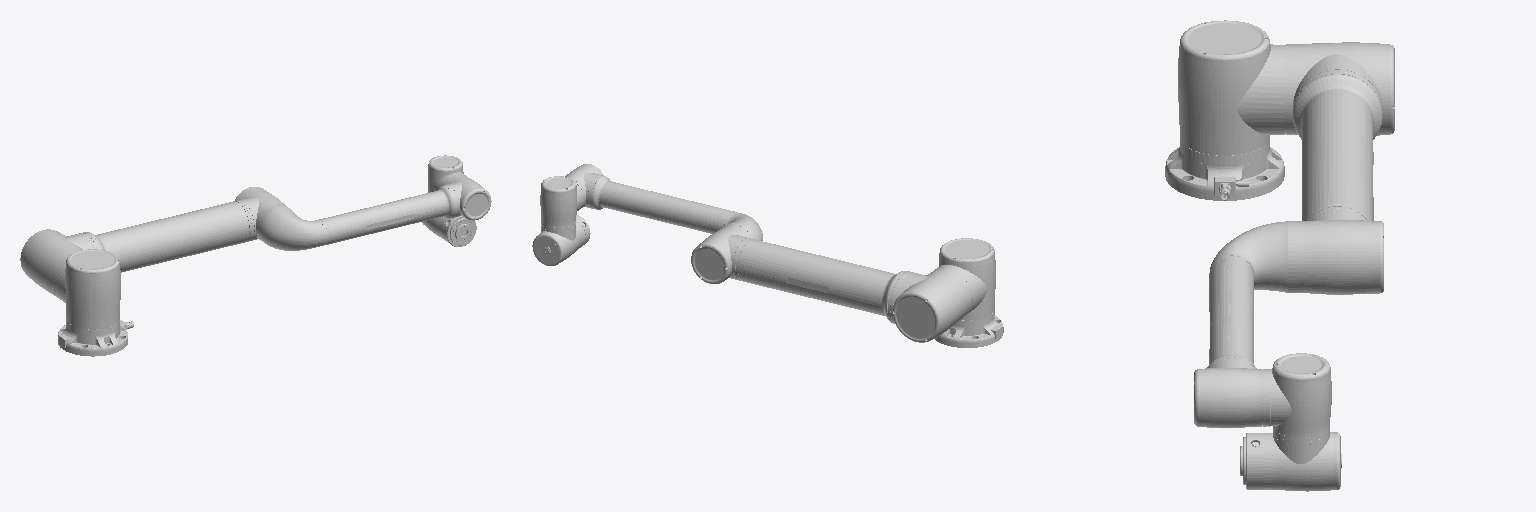
URDF robot description (jaka_pro16):
<?xml version="1.0" encoding="utf-8"?>
<!-- This URDF was automatically created by SolidWorks to URDF Exporter! Originally created by [author] ([email redacted]) 
     Commit Version: 1.6.0-4-g7f85cfe  Build Version: 1.6.7995.38578
     For more information, please see http://wiki.ros.org/sw_urdf_exporter -->
<robot name="jaka_pro16">
    <!-- LINK -->
    <link name="world" />

    <link name="Link_0">
    <inertial>
      <origin
        xyz="0.00066883 2.1035E-05 0.030319"
        rpy="0 0 0" />
      <mass
        value="2.2971" />
      <inertia
        ixx="0.0078544"
        ixy="-5.8534E-06"
        ixz="1.0075E-05"
        iyy="0.0086528"
        iyz="-3.5104E-07"
        izz="0.015073" />
    </inertial>
    <visual>
      <origin
        xyz="0 0 0"
        rpy="0 0 0" />
      <geometry>
        <mesh
          filename="package://jaka_description/meshes/jaka_pro16_meshes/Link_0.STL" />
      </geometry>
      <material name="">
        <color
          rgba="0.84706 0.84706 0.84706 1" />
      </material>
    </visual>
    <collision>
      <origin
        xyz="0 0 0"
        rpy="0 0 0" />
      <geometry>
        <mesh
          filename="package://jaka_description/meshes/jaka_pro16_meshes/Link_0.STL" />
      </geometry>
    </collision>
  </link>
  <link
    name="Link_1">
    <inertial>
      <origin
        xyz="-8.8598E-07 0.0056159 -0.0066183"
        rpy="0 0 0" />
      <mass
        value="7.5342" />
      <inertia
        ixx="0.055309"
        ixy="8.6463E-08"
        ixz="1.4129E-07"
        iyy="0.053715"
        iyz="-0.00019613"
        izz="0.037383" />
    </inertial>
    <visual>
      <origin
        xyz="0 0 0"
        rpy="0 0 0" />
      <geometry>
        <mesh
          filename="package://jaka_description/meshes/jaka_pro16_meshes/Link_1.STL" />
      </geometry>
      <material
        name="">
        <color
          rgba="0.84706 0.84706 0.84706 1" />
      </material>
    </visual>
    <collision>
      <origin
        xyz="0 0 0"
        rpy="0 0 0" />
      <geometry>
        <mesh
          filename="package://jaka_description/meshes/jaka_pro16_meshes/Link_1.STL" />
      </geometry>
    </collision>
  </link>
 <link
    name="Link_2">
    <inertial>
      <origin
        xyz="0.34322 -1.5035E-07 -0.22974"
        rpy="0 0 0" />
      <mass
        value="22.704" />
      <inertia
        ixx="0.10389"
        ixy="-3.2682E-06"
        ixz="0.010995"
        iyy="2.2488"
        iyz="8.2896E-08"
        izz="2.225" />
    </inertial>
    <visual>
      <origin
        xyz="0 0 0"
        rpy="0 0 0" />
      <geometry>
        <mesh
          filename="package://jaka_description/meshes/jaka_pro16_meshes/Link_2.STL" />
      </geometry>
      <material
        name="">
        <color
          rgba="0.84706 0.84706 0.84706 1" />
      </material>
    </visual>
    <collision>
      <origin
        xyz="0 0 0"
        rpy="0 0 0" />
      <geometry>
        <mesh
          filename="package://jaka_description/meshes/jaka_pro16_meshes/Link_2.STL" />
      </geometry>
    </collision>
  </link>

  <link
    name="Link_3">
    <inertial>
      <origin
        xyz="0.36002 -1.7177E-07 -0.027486"
        rpy="0 0 0" />
      <mass
        value="7.4564" />
      <inertia
        ixx="0.018335"
        ixy="-3.2861E-07"
        ixz="-0.034245"
        iyy="0.53162"
        iyz="4.6068E-08"
        izz="0.52485" />
    </inertial>
    <visual>
      <origin
        xyz="0 0 0"
        rpy="0 0 0" />
      <geometry>
        <mesh
          filename="package://jaka_description/meshes/jaka_pro16_meshes/Link_3.STL" />
      </geometry>
      <material
        name="">
        <color
          rgba="0.84706 0.84706 0.84706 1" />
      </material>
    </visual>
    <collision>
      <origin
        xyz="0 0 0"
        rpy="0 0 0" />
      <geometry>
        <mesh
          filename="package://jaka_description/meshes/jaka_pro16_meshes/Link_3.STL" />
      </geometry>
    </collision>
  </link>
  
  <link
    name="Link_4">
    <inertial>
      <origin
        xyz="-1.0549E-07 -0.001543 0.0033244"
        rpy="0 0 0" />
      <mass
        value="1.9271" />
      <inertia
        ixx="0.0056362"
        ixy="1.9641E-09"
        ixz="2.1723E-08"
        iyy="0.0038863"
        iyz="1.6853E-06"
        izz="0.0054826" />
    </inertial>
    <visual>
      <origin
        xyz="0 0 0"
        rpy="0 0 0" />
      <geometry>
        <mesh
          filename="package://jaka_description/meshes/jaka_pro16_meshes/Link_4.STL" />
      </geometry>
      <material
        name="">
        <color
          rgba="0.84706 0.84706 0.84706 1" />
      </material>
    </visual>
    <collision>
      <origin
        xyz="0 0 0"
        rpy="0 0 0" />
      <geometry>
        <mesh
          filename="package://jaka_description/meshes/jaka_pro16_meshes/Link_4.STL" />
      </geometry>
    </collision>
  </link>
 
  <link
    name="Link_5">
    <inertial>
      <origin
        xyz="-2.1946E-07 -0.00070175 -0.0032303"
        rpy="0 0 0" />
      <mass
        value="1.9835" />
      <inertia
        ixx="0.0060249"
        ixy="-7.5051E-09"
        ixz="-5.2034E-08"
        iyy="0.0039779"
        iyz="1.5982E-05"
        izz="0.0058703" />
    </inertial>
    <visual>
      <origin
        xyz="0 0 0"
        rpy="0 0 0" />
      <geometry>
        <mesh
          filename="package://jaka_description/meshes/jaka_pro16_meshes/Link_5.STL" />
      </geometry>
      <material
        name="">
        <color
          rgba="0.84706 0.84706 0.84706 1" />
      </material>
    </visual>
    <collision>
      <origin
        xyz="0 0 0"
        rpy="0 0 0" />
      <geometry>
        <mesh
          filename="package://jaka_description/meshes/jaka_pro16_meshes/Link_5.STL" />
      </geometry>
    </collision>
  </link>

  <link
    name="Link_6">
    <inertial>
      <origin
        xyz="0.00013752 -0.00019981 -0.026598"
        rpy="0 0 0" />
      <mass
        value="0.42159" />
      <inertia
        ixx="0.00039872"
        ixy="-1.1269E-06"
        ixz="-1.9314E-07"
        iyy="0.00040609"
        iyz="7.9158E-08"
        izz="0.00068642" />
    </inertial>
    <visual>
      <origin
        xyz="0 0 0"
        rpy="0 0 0" />
      <geometry>
        <mesh
          filename="package://jaka_description/meshes/jaka_pro16_meshes/Link_6.STL" />
      </geometry>
      <material
        name="">
        <color
          rgba="0.84706 0.84706 0.84706 1" />
      </material>
    </visual>
    <collision>
      <origin
        xyz="0 0 0"
        rpy="0 0 0" />
      <geometry>
        <mesh
          filename="package://jaka_description/meshes/jaka_pro16_meshes/Link_6.STL" />
      </geometry>
    </collision>
  </link>

<!-- JOINT -->
    <joint name="fixed" type="fixed">
        <parent link="world" />
        <child link="Link_0" />
    </joint>

 <joint
    name="joint_1"
    type="revolute">
    <origin
      xyz="0 0 0.1965"
      rpy="0 0 0" />
    <parent
      link="Link_0" />
    <child
      link="Link_1" />
    <axis
      xyz="0 0 -1" />
    <limit
      lower="-6.28"
      upper="6.28"
      effort="10000"
      velocity="1.57" />
  </joint>
  
  <joint
    name="joint_2"
    type="revolute">
    <origin
      xyz="0 0 0"
      rpy="1.5708 0 0" />
    <parent
      link="Link_1" />
    <child
      link="Link_2" />
    <axis
      xyz="0 0 1" />
    <limit
      lower="-1.48"
      upper="4.62"
      effort="12000"
      velocity="1.57" />
  </joint>

<joint
    name="joint_3"
    type="revolute">
    <origin
      xyz="0.819 0 0"
      rpy="0 0 0" />
    <parent
      link="Link_2" />
    <child
      link="Link_3" />
    <axis
      xyz="0 0 1" />
    <limit
      lower="-3.05"
      upper="3.05"
      effort="12000"
      velocity="1.57" />
  </joint>

 <joint
    name="joint_4"
    type="revolute">
    <origin
      xyz="0.687 0 -0.15801"
      rpy="0 0 0" />
    <parent
      link="Link_3" />
    <child
      link="Link_4" />
    <axis
      xyz="0 0 -1" />
    <limit
      lower="-1.48"
      upper="4.62"
      effort="8000"
      velocity="1.57" />
  </joint>

  <joint
    name="joint_5"
    type="revolute">
    <origin
      xyz="0 -0.14415 0"
      rpy="1.5708 0 0" />
    <parent
      link="Link_4" />
    <child
      link="Link_5" />
    <axis
      xyz="0 0 1" />
    <limit
      lower="-6.28"
      upper="6.28"
      effort="8000"
      velocity="1.57" />
  </joint>

  <joint
    name="joint_6"
    type="revolute">
    <origin
      xyz="0 0.12665 0"
      rpy="-1.5708 0 0" />
    <parent
      link="Link_5" />
    <child
      link="Link_6" />
    <axis
      xyz="0 0 1" />
    <limit
      lower="-6.28"
      upper="6.28"
      effort="8000"
      velocity="1.57" />
  </joint>

  <transmission name="trans_joint_1">
    <type>transmission_interface/SimpleTransmission</type>
    <joint name="joint_1">
      <hardwareInterface>hardware_interface/PositionJointInterface</hardwareInterface>
    </joint>
    <actuator name="joint_1_motor">
      <hardwareInterface>hardware_interface/PositionJointInterface</hardwareInterface>
      <mechanicalReduction>1</mechanicalReduction>
    </actuator>
  </transmission>
  <transmission name="trans_joint_2">
    <type>transmission_interface/SimpleTransmission</type>
    <joint name="joint_2">
      <hardwareInterface>hardware_interface/PositionJointInterface</hardwareInterface>
    </joint>
    <actuator name="joint_2_motor">
      <hardwareInterface>hardware_interface/PositionJointInterface</hardwareInterface>
      <mechanicalReduction>1</mechanicalReduction>
    </actuator>
  </transmission>
  <transmission name="trans_joint_3">
    <type>transmission_interface/SimpleTransmission</type>
    <joint name="joint_3">
      <hardwareInterface>hardware_interface/PositionJointInterface</hardwareInterface>
    </joint>
    <actuator name="joint_3_motor">
      <hardwareInterface>hardware_interface/PositionJointInterface</hardwareInterface>
      <mechanicalReduction>1</mechanicalReduction>
    </actuator>
  </transmission>
  <transmission name="trans_joint_4">
    <type>transmission_interface/SimpleTransmission</type>
    <joint name="joint_4">
      <hardwareInterface>hardware_interface/PositionJointInterface</hardwareInterface>
    </joint>
    <actuator name="joint_4_motor">
      <hardwareInterface>hardware_interface/PositionJointInterface</hardwareInterface>
      <mechanicalReduction>1</mechanicalReduction>
    </actuator>
  </transmission>
  <transmission name="trans_joint_5">
    <type>transmission_interface/SimpleTransmission</type>
    <joint name="joint_5">
      <hardwareInterface>hardware_interface/PositionJointInterface</hardwareInterface>
    </joint>
    <actuator name="joint_5_motor">
      <hardwareInterface>hardware_interface/PositionJointInterface</hardwareInterface>
      <mechanicalReduction>1</mechanicalReduction>
    </actuator>
  </transmission>
  <transmission name="trans_joint_6">
    <type>transmission_interface/SimpleTransmission</type>
    <joint name="joint_6">
      <hardwareInterface>hardware_interface/PositionJointInterface</hardwareInterface>
    </joint>
    <actuator name="joint_6_motor">
      <hardwareInterface>hardware_interface/PositionJointInterface</hardwareInterface>
      <mechanicalReduction>1</mechanicalReduction>
    </actuator>
  </transmission>
  <gazebo>
    <plugin name="gazebo_ros_control" filename="libgazebo_ros_control.so">
      <robotNamespace>/</robotNamespace>
    </plugin>
  </gazebo>

</robot>

--- Render facts (derived) ---
Views: 3 orthographic renders of the robot side by side, from view 1: azimuth 30°, elevation 25°; view 2: azimuth 150°, elevation 25°; view 3: azimuth 270°, elevation 25°.
Robot: jaka_pro16 — 8 links, 7 joints (6 revolute, 1 fixed); root link world; default pose: all joints at 0.
Visible links, largest first — view 1: Link_2, Link_3, Link_1, Link_0, Link_4, Link_6; view 2: Link_2, Link_3, Link_1, Link_4, Link_5, Link_0; view 3: Link_2, Link_1, Link_3, Link_4, Link_0, Link_5, Link_6.
Link boxes in pixels (bbox=[...]): Link_2: bbox=[20, 187, 289, 299]; Link_3: bbox=[260, 173, 491, 250]; Link_1: bbox=[55, 249, 120, 335]; Link_0: bbox=[58, 320, 133, 356]; Link_4: bbox=[428, 155, 463, 192]; Link_6: bbox=[443, 216, 476, 246]; Link_2: bbox=[691, 223, 975, 342]; Link_3: bbox=[565, 164, 762, 240]; Link_1: bbox=[938, 238, 995, 326]; Link_4: bbox=[540, 176, 582, 231]; Link_5: bbox=[532, 220, 585, 265]; Link_0: bbox=[935, 316, 1003, 347]; Link_2: bbox=[1274, 42, 1394, 294]; Link_1: bbox=[1178, 20, 1273, 165]; Link_3: bbox=[1194, 221, 1287, 427]; Link_4: bbox=[1271, 353, 1331, 444]; Link_0: bbox=[1165, 147, 1284, 200]; Link_5: bbox=[1263, 432, 1341, 491]; Link_6: bbox=[1240, 433, 1262, 489].
Bounding box of the posed robot: 1.69 × 0.473 × 0.3242 m (x, y, z).
7 mesh visuals loaded from 7 distinct referenced files (7 binary STL).
